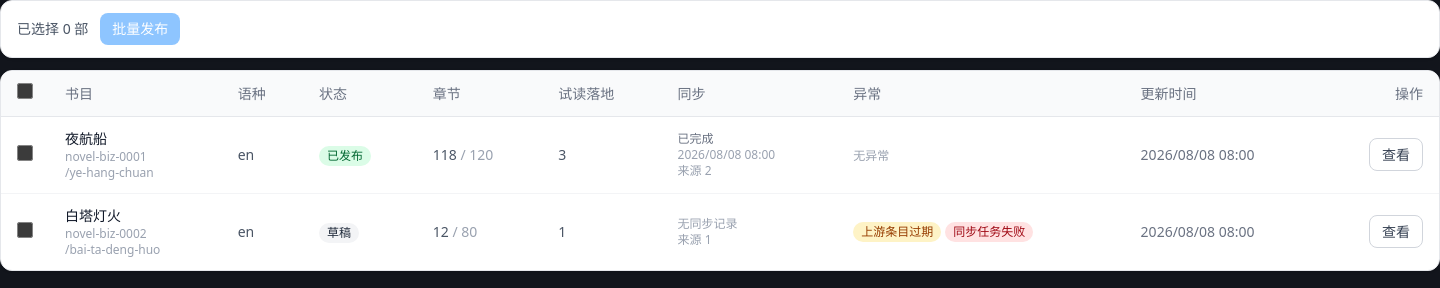
选择 · NovelsTable 的既有 0-input 断言不受影响 › 点表头「选择当前页」→ 计数变为本页行数；再点一次 → 归零（C-17）
Click the checkbox named "选择当前页": (25, 91) x1=17 y1=83 x2=33 y2=99
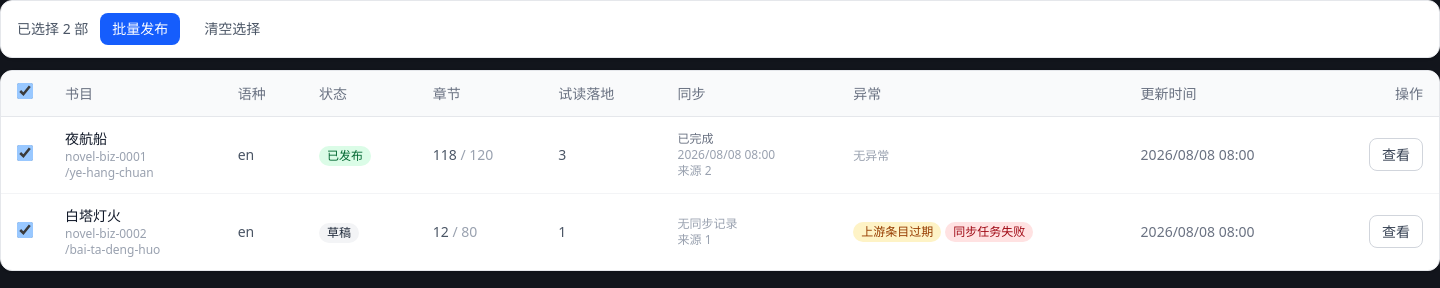
expect the text "已选择 2 部" is shown: met, box x1=17 y1=19 x2=88 y2=39
Click the checkbox named "选择当前页": (25, 91) x1=17 y1=83 x2=33 y2=99
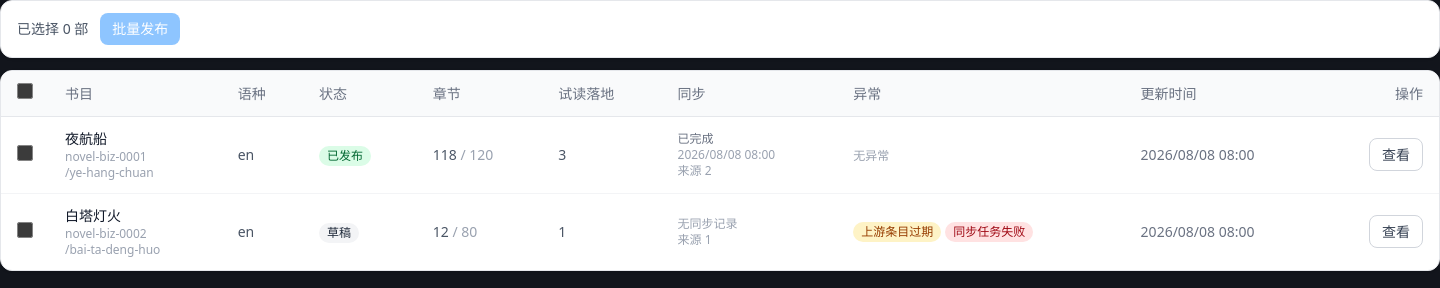
expect the text "已选择 0 部" is shown: met, box x1=17 y1=19 x2=88 y2=39
